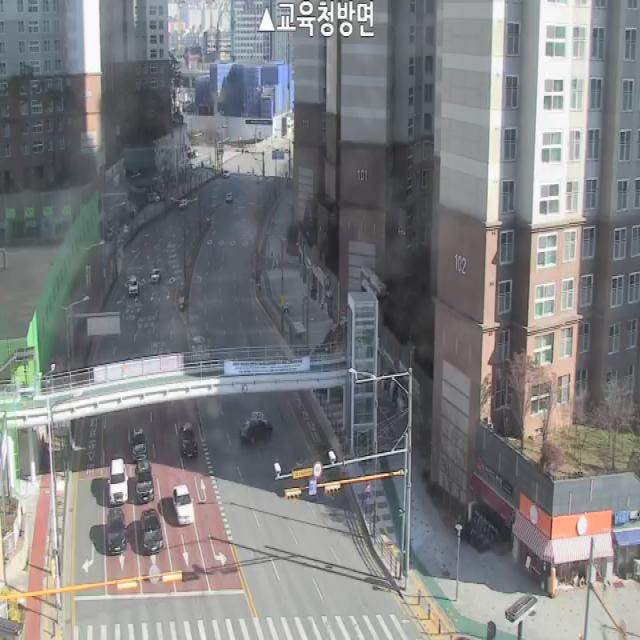Car: (239, 411, 273, 444), (108, 507, 128, 556), (142, 509, 163, 555), (172, 486, 195, 526), (108, 459, 128, 504), (135, 460, 154, 502), (181, 422, 197, 458), (132, 428, 148, 460), (128, 275, 138, 297), (150, 266, 162, 283), (178, 198, 188, 208), (225, 192, 233, 204), (223, 170, 230, 178)
